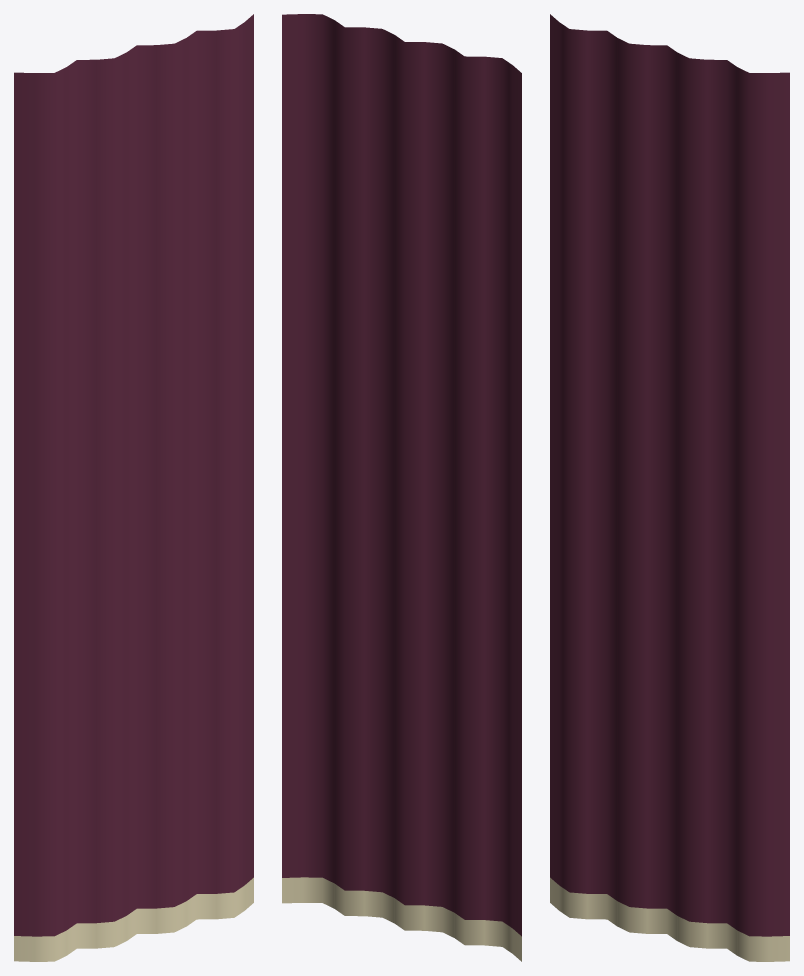
The model's file is Cortina2.fbx.
3 views of the same model, side by side, from view 1: azimuth 30°, elevation 25°; view 2: azimuth 150°, elevation 25°; view 3: azimuth 330°, elevation 25° (orthographic).
Parts seen in each view (by area): view 1: Cortina2; view 2: Cortina2; view 3: Cortina2.
Part boxes in pixels (x1,y1,x2,y2): Cortina2: (14,14,253,961); Cortina2: (282,14,521,961); Cortina2: (550,14,789,961).
Size of the model in its own units: 211 by 747 by 16.03.
